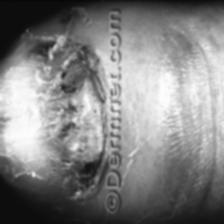Toxin: (8, 34, 110, 188)
